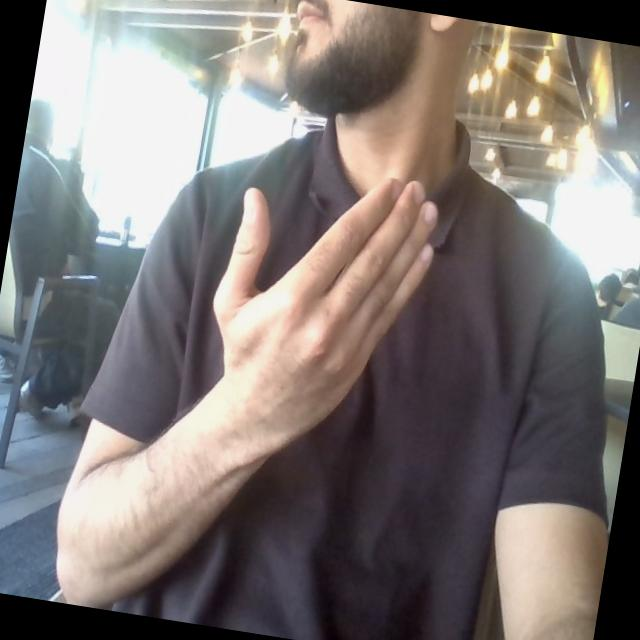Hand: (214, 180, 436, 444)
